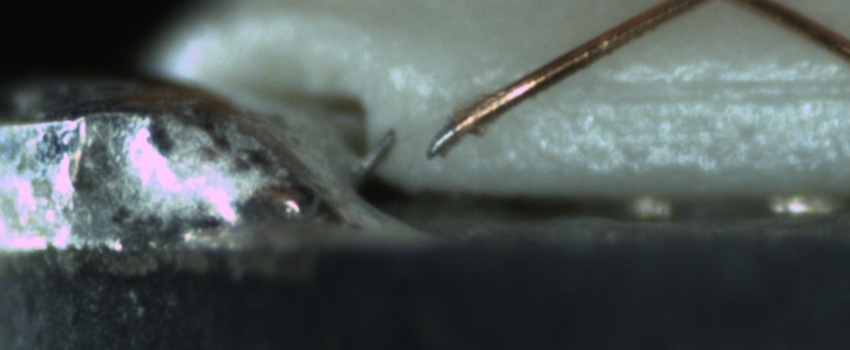DL: (539, 60, 850, 128)
